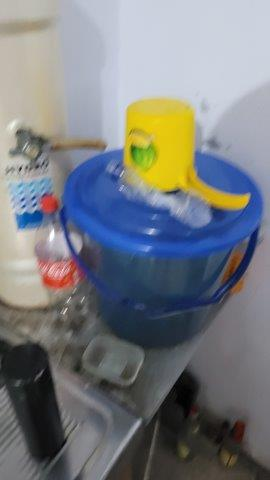botolplastik: (30, 194, 98, 341), (106, 161, 213, 234)
